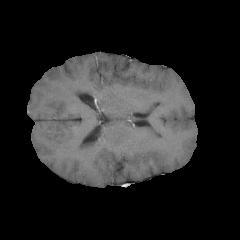glioma: (70, 136, 115, 160)
